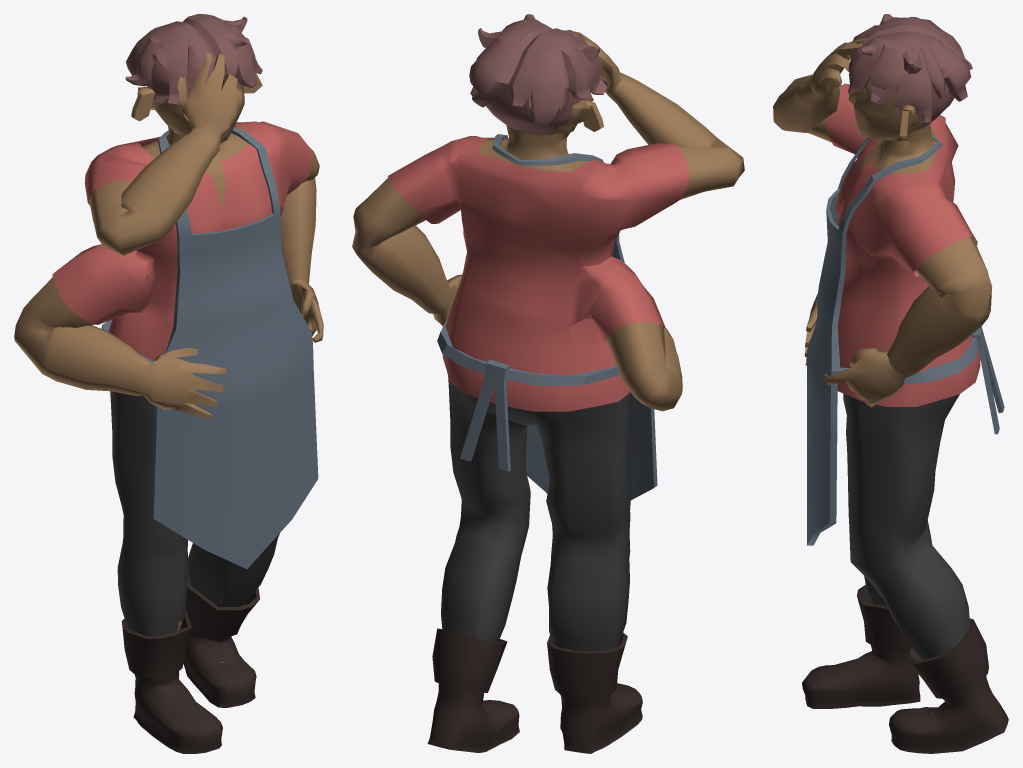
File: atoll_potter_posed.fbx
3 renders of one model, left to right at view 1: azimuth 30°, elevation 25°; view 2: azimuth 150°, elevation 25°; view 3: azimuth 270°, elevation 25°, orthographic. The views are drawn at different scales.
Visible parts, largest first — view 1: potter1; view 2: potter1; view 3: potter1.
Boxes of the visible parts, x1,y1,x2,y2 form: potter1: (14, 14, 323, 753); potter1: (352, 14, 744, 753); potter1: (773, 14, 1008, 753).
Bounding box in the file's own units: 1.13 × 2.45 × 0.7519.
